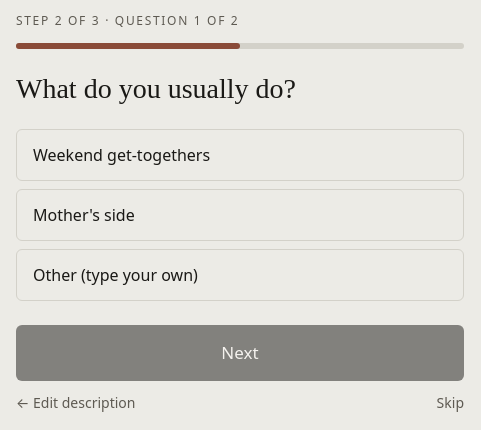
Test case: follow-up questions › lets you skip a question and go back
Expected: the heading "What do you usually do?" is shown, [16,73,296,104]
Click the button "Skip" at x=450, y=403, box [437,393,464,413]
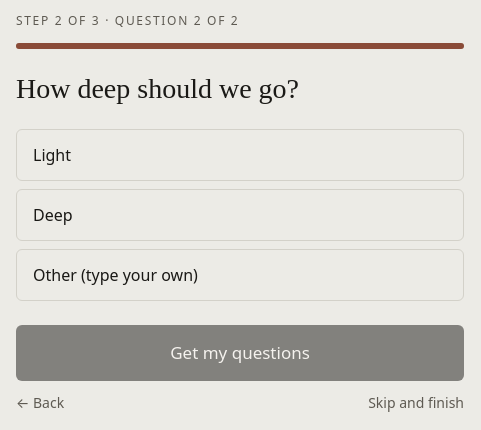
Expected: the heading "How deep should we go?" is shown, [16,73,299,104]
Click the button "← Back" at x=40, y=403, box [16,393,64,413]
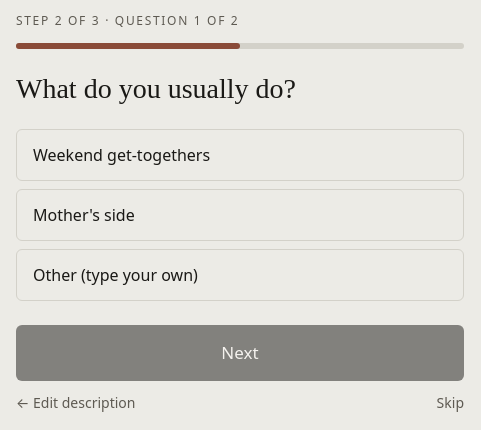
Expected: the heading "What do you usually do?" is shown, [16,73,296,104]
